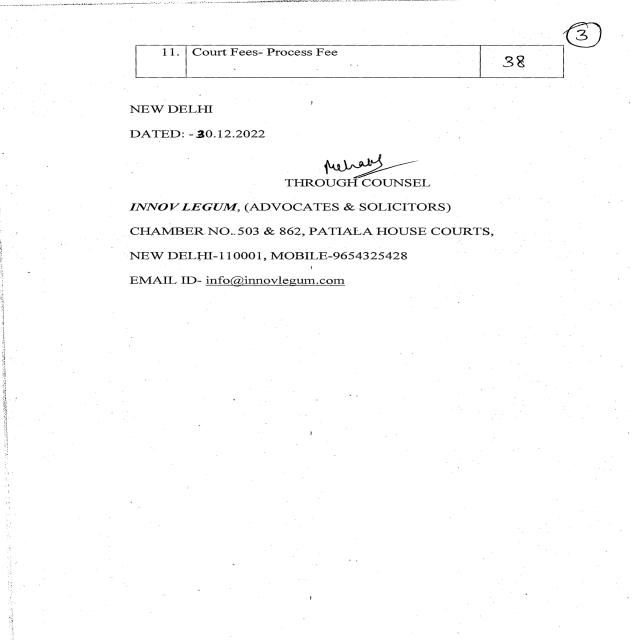page-number: (565, 4, 640, 134)
